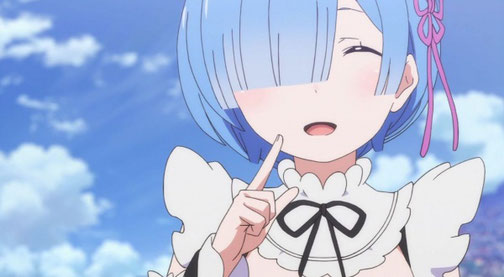rem: (168, 4, 482, 277)
